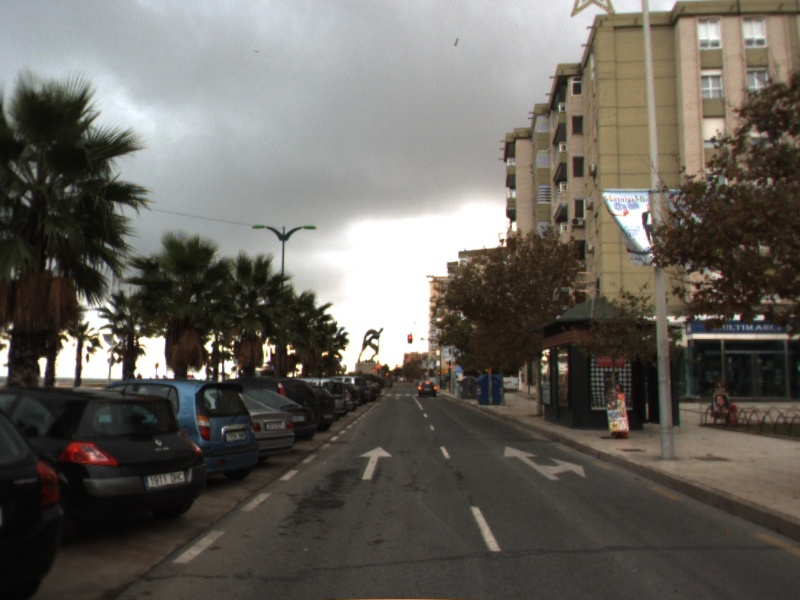STRAIGHT: (357, 445, 394, 481)
STRAIGHT_RIGHT: (503, 444, 587, 482)
